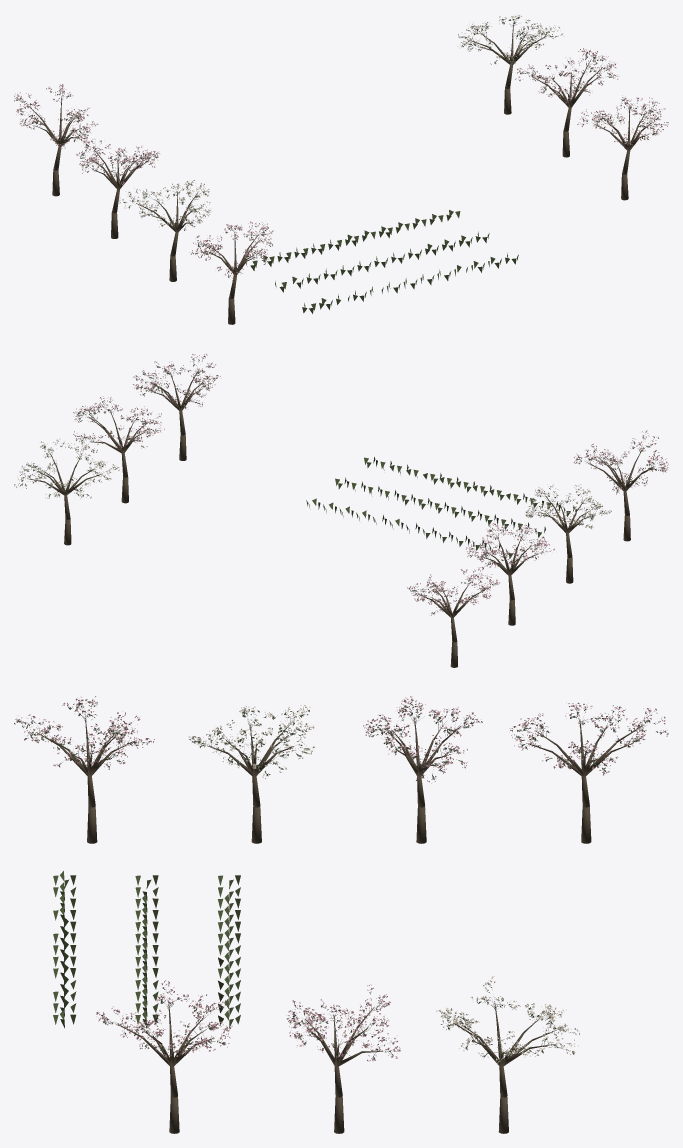
Rendered from daoxiangcun.glb.
3 renders of one model, top to bottom at view 1: azimuth 30°, elevation 25°; view 2: azimuth 150°, elevation 25°; view 3: azimuth 270°, elevation 25°, orthographic. The views are drawn at different scales.
Parts seen in each view (by area): view 1: Mobile_daoxiangcun_plants; view 2: Mobile_daoxiangcun_plants; view 3: Mobile_daoxiangcun_plants.
Boxes of the visible parts, x1,y1,x2,y2 form: Mobile_daoxiangcun_plants: (14, 15, 668, 324); Mobile_daoxiangcun_plants: (14, 353, 668, 667); Mobile_daoxiangcun_plants: (14, 696, 668, 1133).
Bounding box in the file's own units: 30.44 × 5.37 × 23.86.
